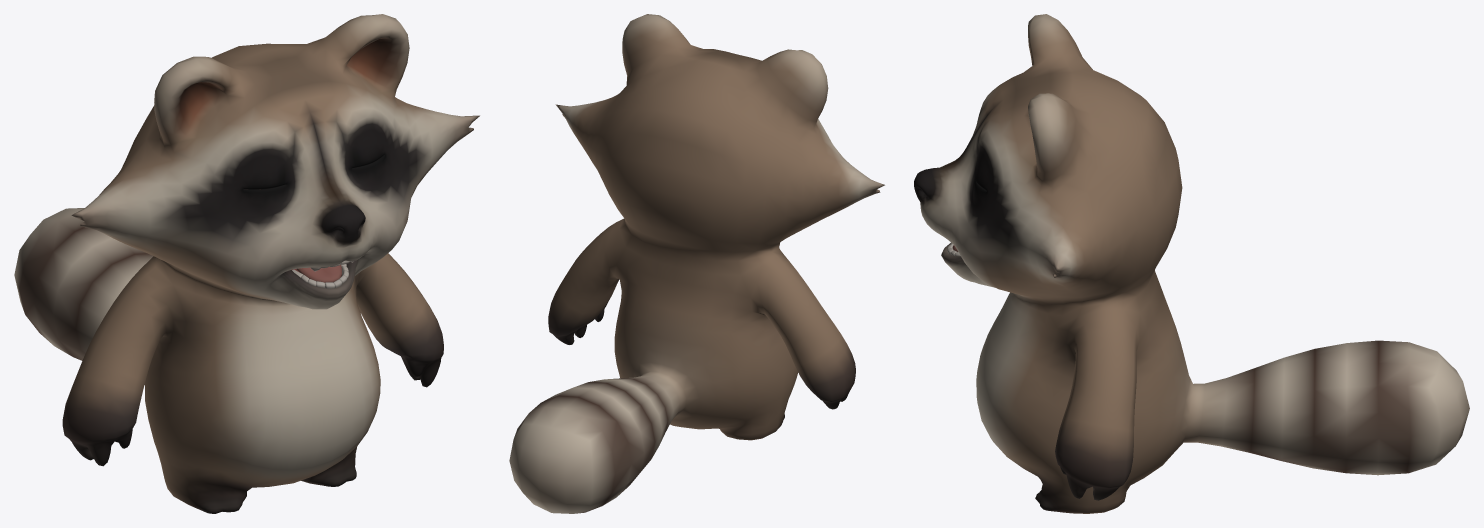
The model's file is Raccoon.fbx.
The picture shows the model from 3 angles, left to right: view 1: azimuth 30°, elevation 25°; view 2: azimuth 150°, elevation 25°; view 3: azimuth 270°, elevation 25°; orthographic projection. The views are drawn at different scales.
Parts seen in each view (by area): view 1: Char_Raccoon_01; view 2: Char_Raccoon_01; view 3: Char_Raccoon_01.
Boxes of the visible parts, x1,y1,x2,y2 form: Char_Raccoon_01: (14,14,479,513); Char_Raccoon_01: (509,14,884,513); Char_Raccoon_01: (914,14,1469,513).
Bounding box in the file's own units: 55.57 × 59.65 × 71.37.
